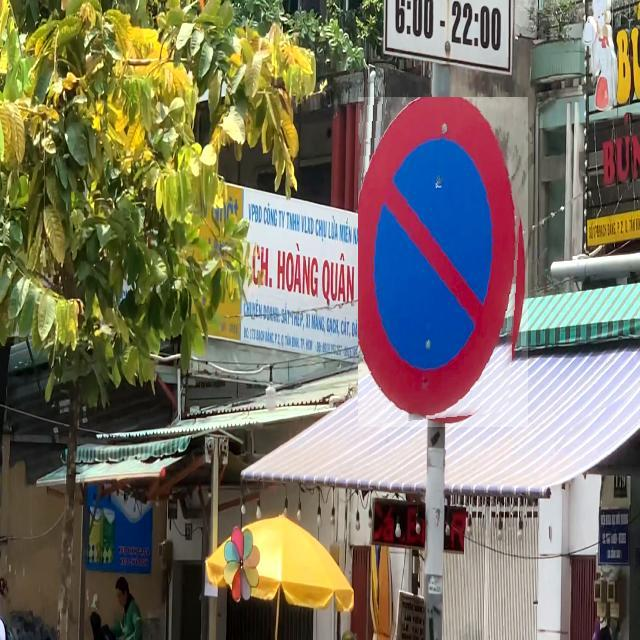P-131a: (358, 97, 528, 427)
